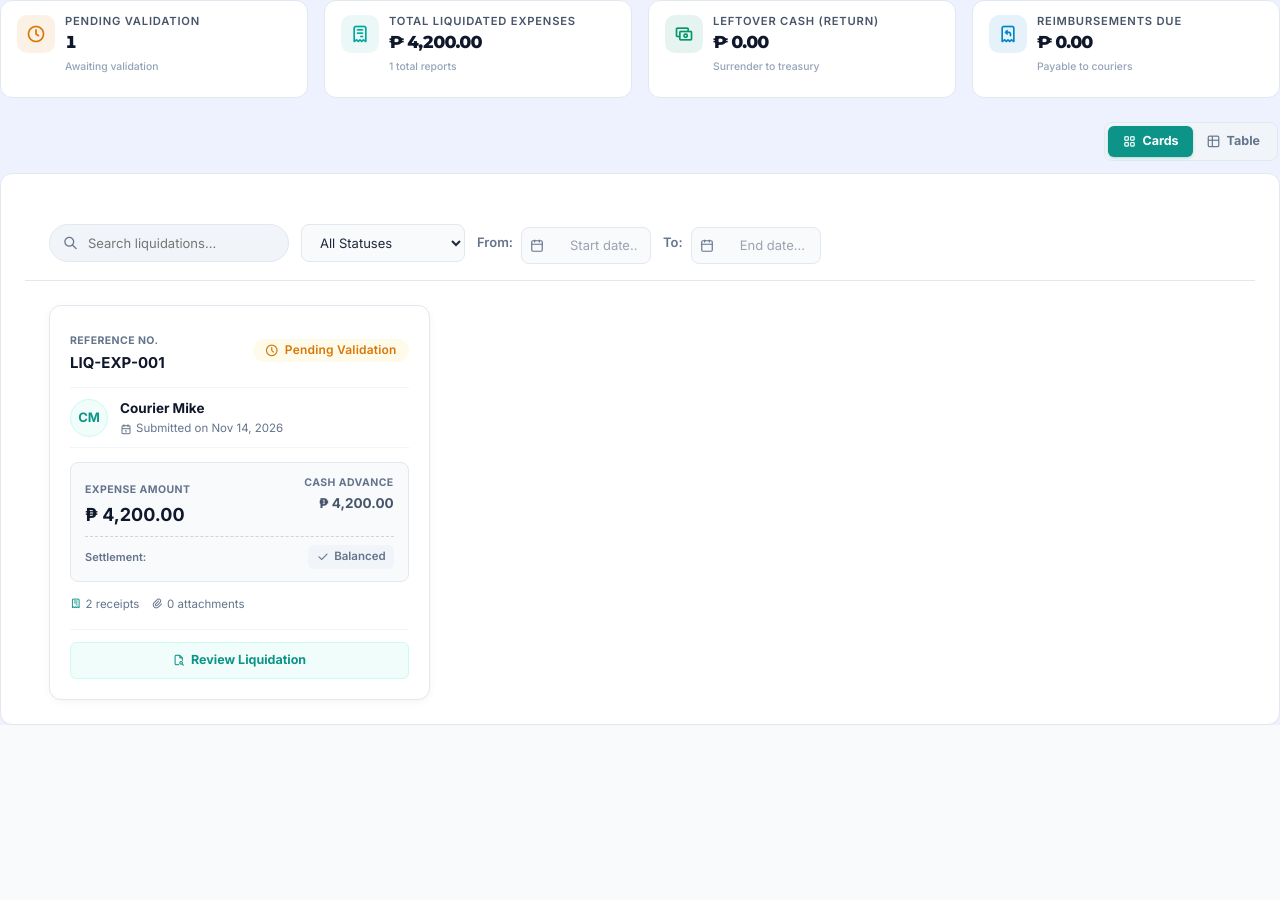
EMP-001 (Finance Manager) — Complete Page-by-Page Workflow & Verification › Page 13: /liquidations (Liquidation Reports) › returns liquidation for correction with canonical rejection reason dropdown and required remarks
Later steps or results of the test are not shown.
Expected: the text "LIQ-EXP-001" is shown, [70, 352, 165, 375]
Step 1. Click the button "Review Liquidation" → (239, 660), box [70, 642, 409, 679]
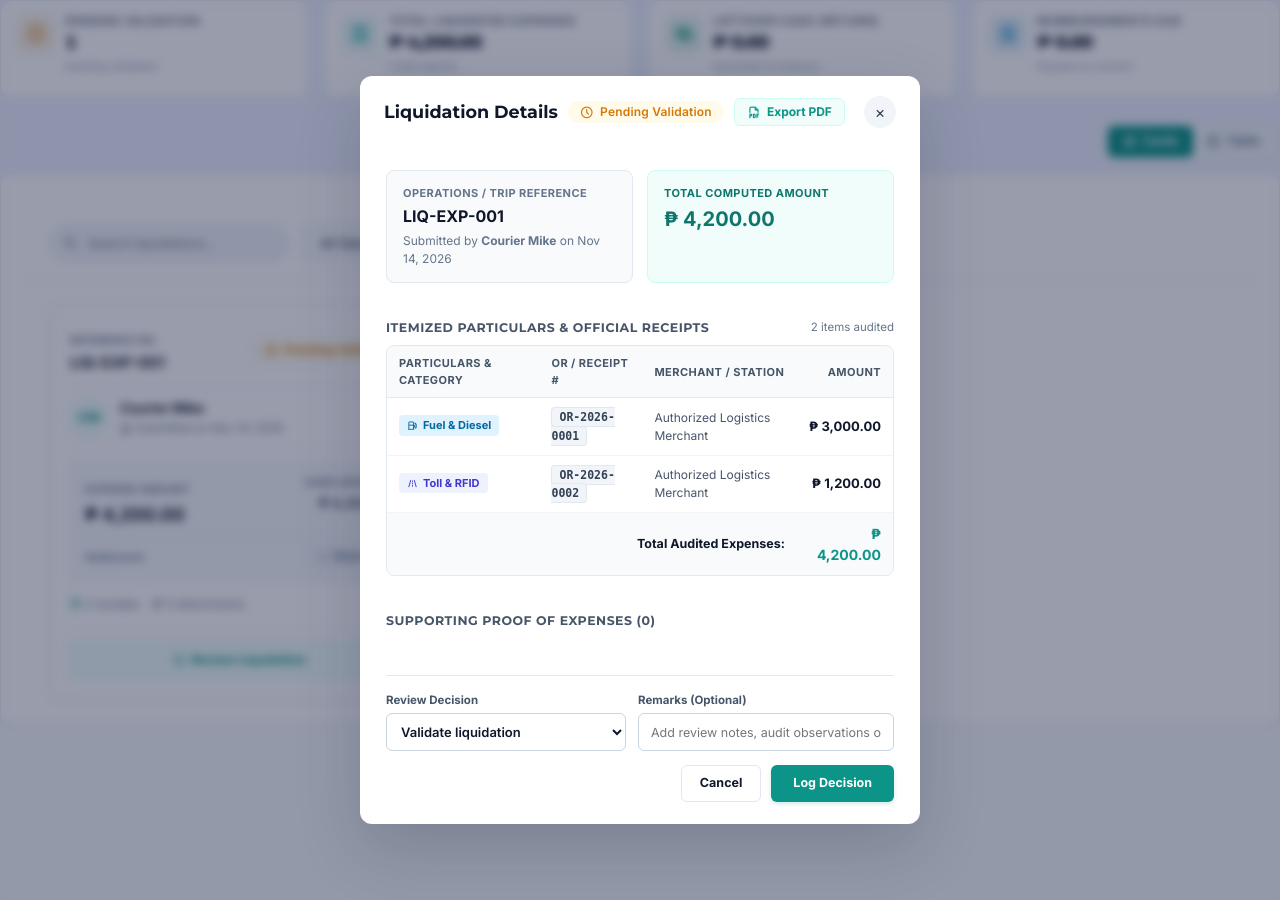
Expected: the button "Log Decision" is shown, [771, 765, 894, 802]
Note: Change review decision to "Return for Correction"
Step 2. Select "Return for correction" in the dropdown showing "Validate liquidation" → (506, 732), box [386, 713, 626, 751]
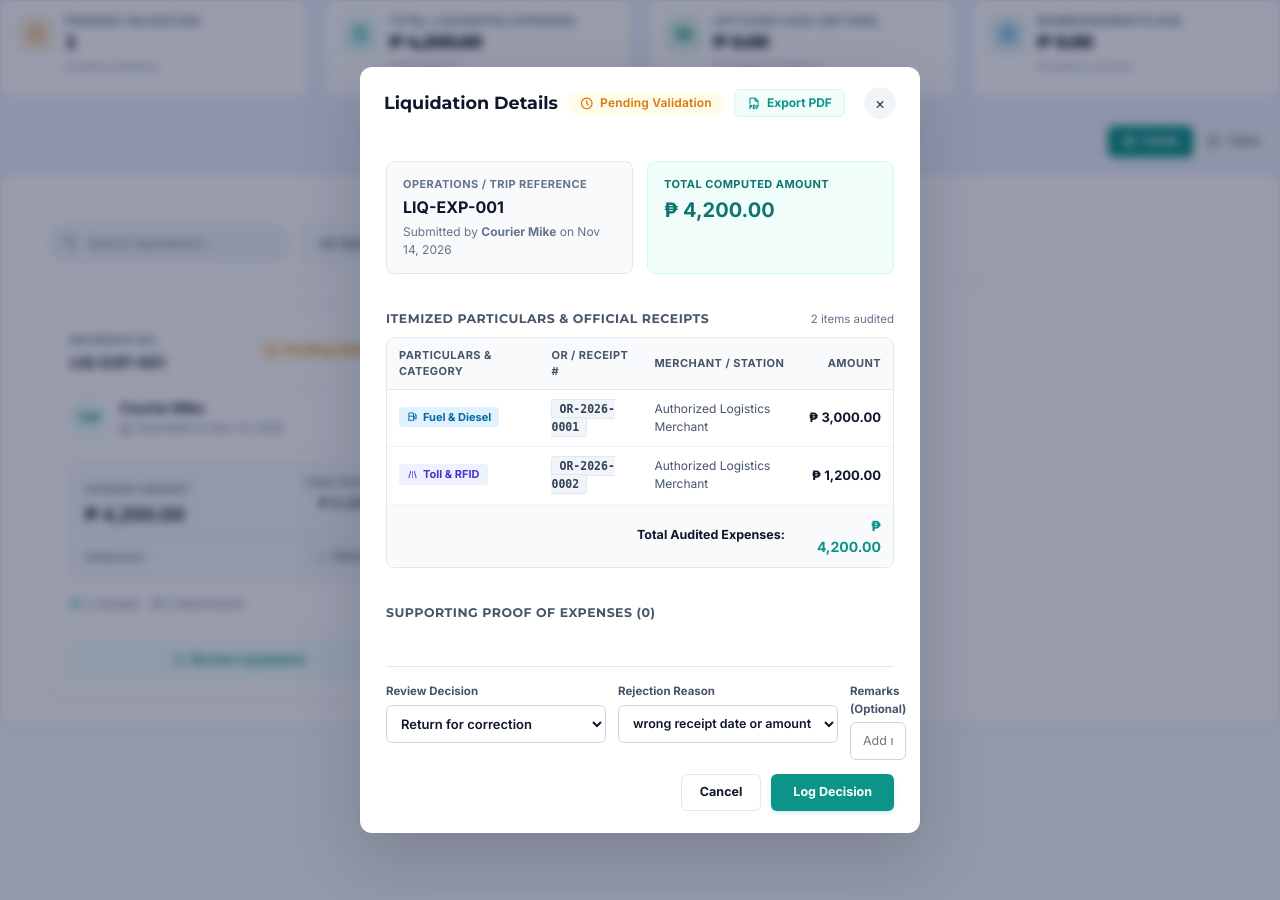
Expected: the dropdown showing "wrong receipt date or amount" below "Rejection Reason" is shown, [618, 705, 838, 743]
